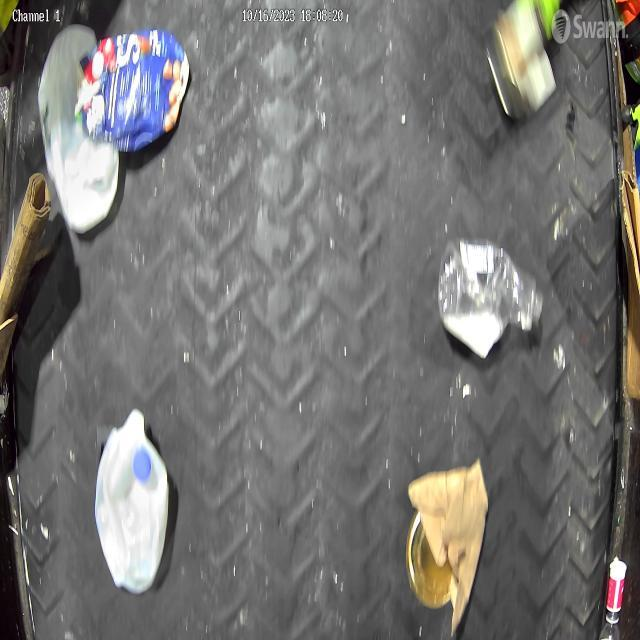milk_jug: (38, 23, 118, 237), (95, 406, 169, 592)
non_white_jug: (81, 34, 187, 146)
plastic_bottle: (442, 234, 546, 346)
